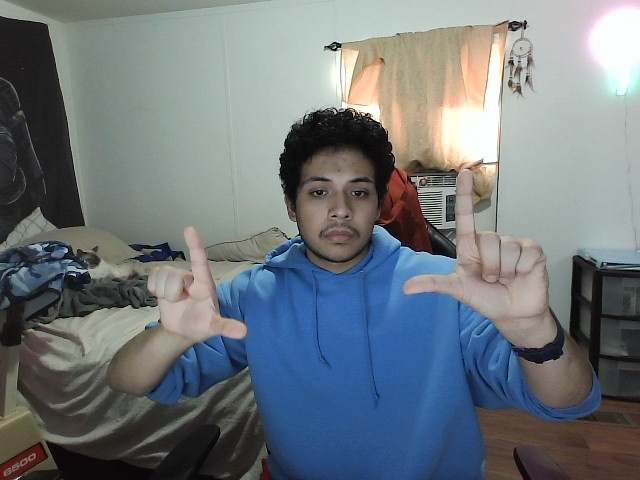L: (401, 165, 555, 324), (137, 224, 249, 344)
